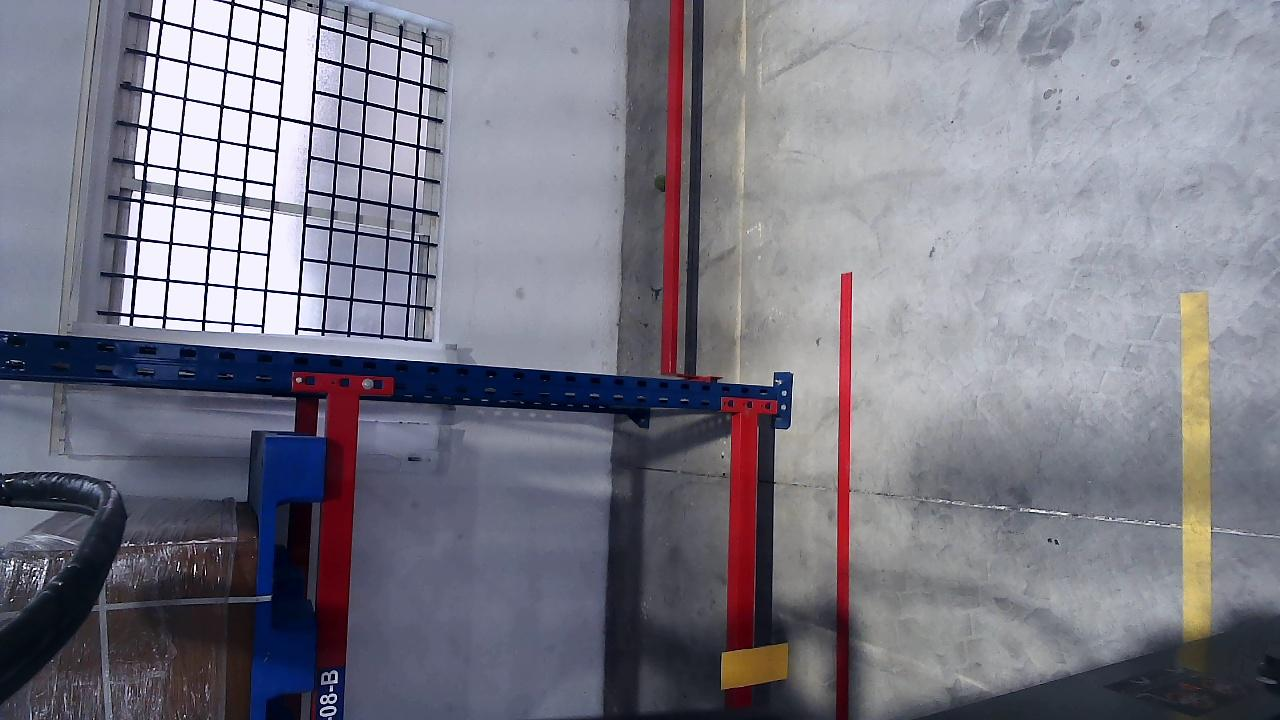h_rack: (311, 390, 361, 718), (728, 411, 761, 711)
orange_strip: (719, 642, 788, 689)
red_line: (834, 269, 854, 714)
yellow_line: (1180, 298, 1213, 635)
